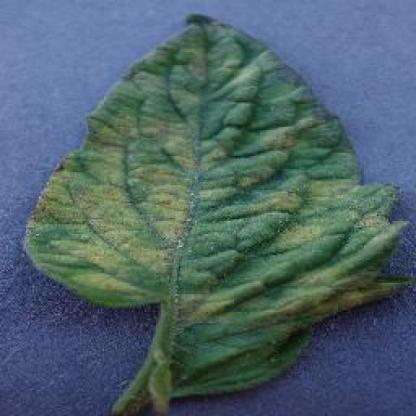Tomato_Leaf_Mold: (37, 16, 408, 392)
